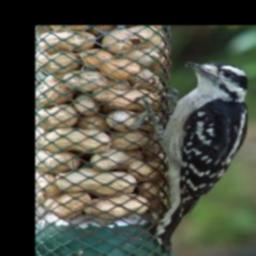Woodpecker: (132, 58, 256, 251)
